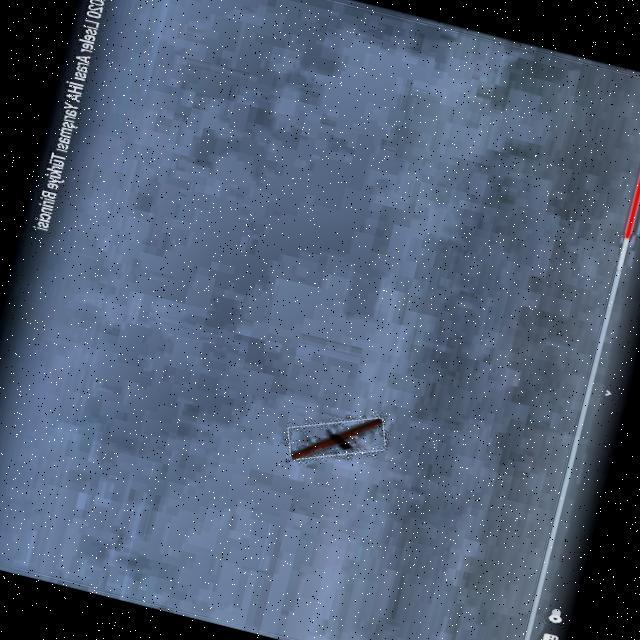iha: (305, 416, 367, 454)
